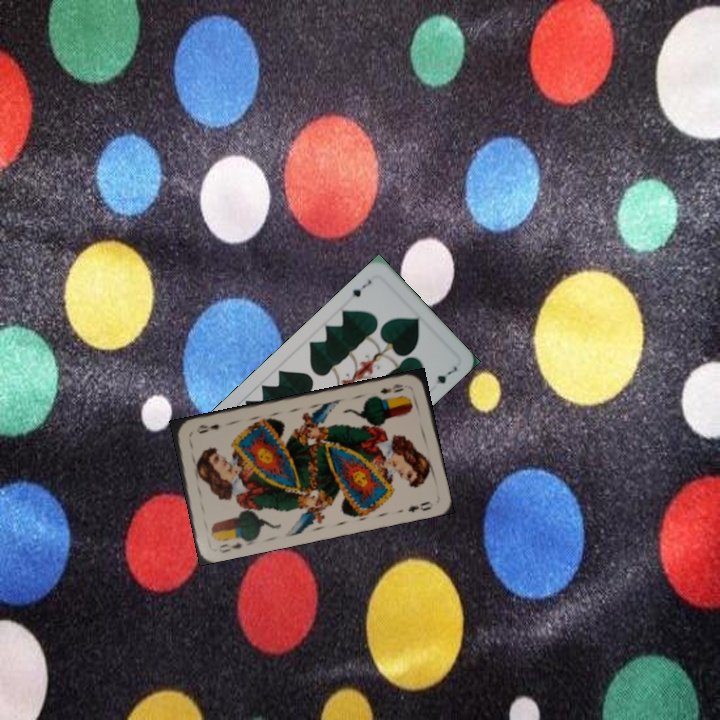EO: (376, 380, 407, 397), (215, 539, 244, 556)
G7: (345, 275, 374, 302)
